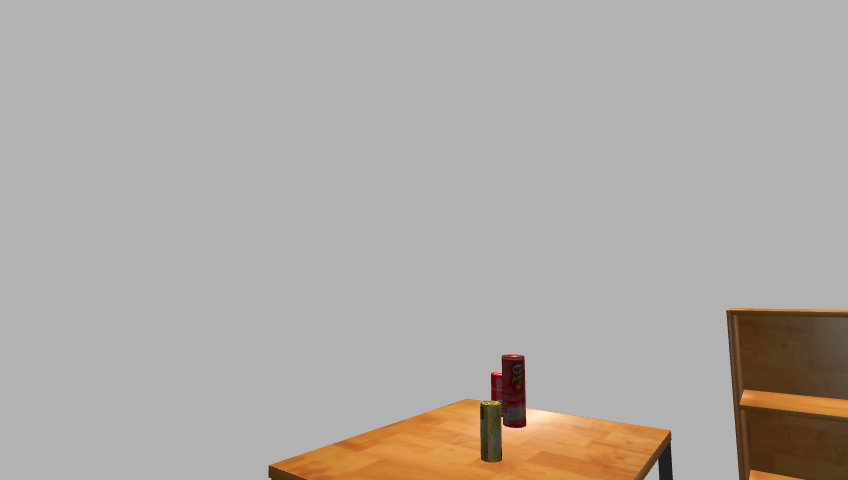biscuits pack: (478, 400, 503, 463)
bookshelf: (720, 307, 848, 479)
coke can: (490, 372, 507, 425)
dinner table: (262, 399, 683, 480)
pringles can: (500, 353, 528, 430)
